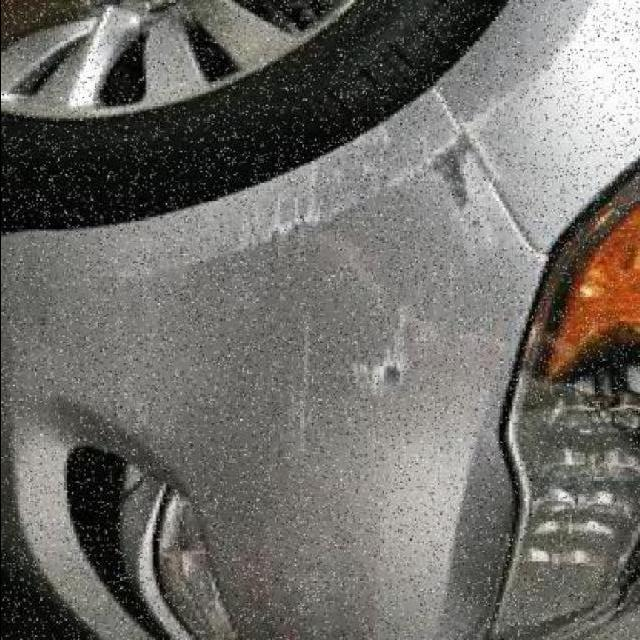front-bumper-dent: (3, 90, 557, 639)
